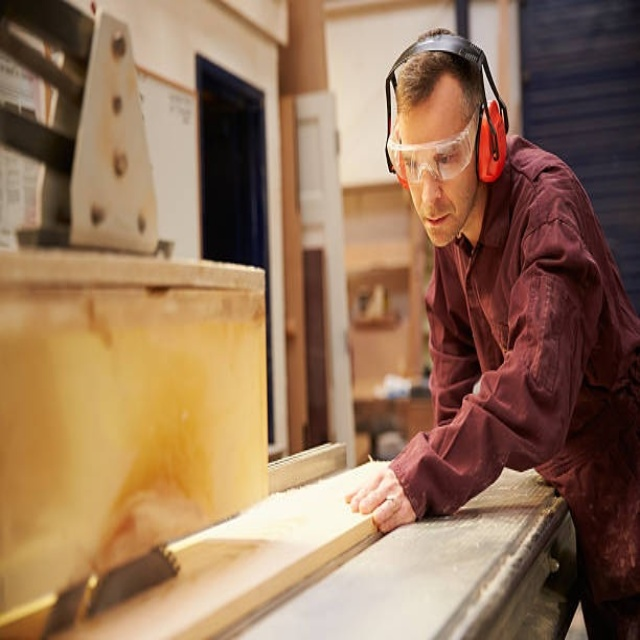Gafas: (387, 104, 482, 183)
Sin_guantes: (341, 460, 417, 533)
Sin_mascara: (415, 201, 457, 248)
